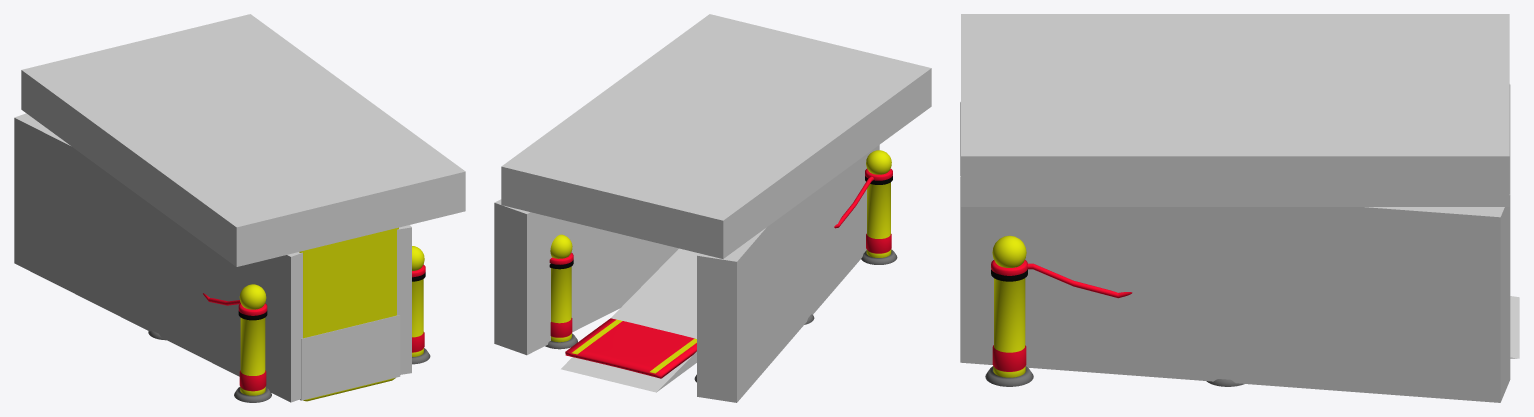
Rendered from VipArea3.fbx.
3 views of the same model, side by side, from view 1: azimuth 30°, elevation 25°; view 2: azimuth 150°, elevation 25°; view 3: azimuth 270°, elevation 25° (orthographic). The views are drawn at different scales.
Visible parts, largest first — view 1: Wall2.001, Wall2, DoorHolder, Ramp, Pyllar4, Wall1, Pyllar1, PyllarSphere4; view 2: Wall2.001, Wall2, Wall1, Ramp, Carpet, Pyllar4, Pyllar3, PyllarSphere4, PyllarSphere3; view 3: Wall2.001, Wall1, Pyllar1, PyllarSphere1, Rope1, Ramp.
Part boxes in pixels (x1,y1,x2,y2): Wall2.001: (21,14,465,266); Wall2: (14,113,302,402); DoorHolder: (299,227,398,401); Ramp: (300,315,400,400); Pyllar4: (234,303,271,402); Wall1: (397,225,411,374); Pyllar1: (412,264,430,364); PyllarSphere4: (239,284,266,309); Wall2.001: (501,14,931,258); Wall2: (697,145,879,402); Wall1: (494,199,678,355); Ramp: (561,248,698,392); Carpet: (565,318,696,378); Pyllar4: (861,168,897,264); Pyllar3: (545,252,577,349); PyllarSphere4: (866,150,891,174); PyllarSphere3: (550,234,572,258); Wall2.001: (961,14,1509,206); Wall1: (960,176,1510,402); Pyllar1: (985,260,1033,386); PyllarSphere1: (992,235,1026,267); Rope1: (1027,263,1132,298); Ramp: (1510,296,1519,358).
Size of the model in its own units: 506 by 372 by 768.
